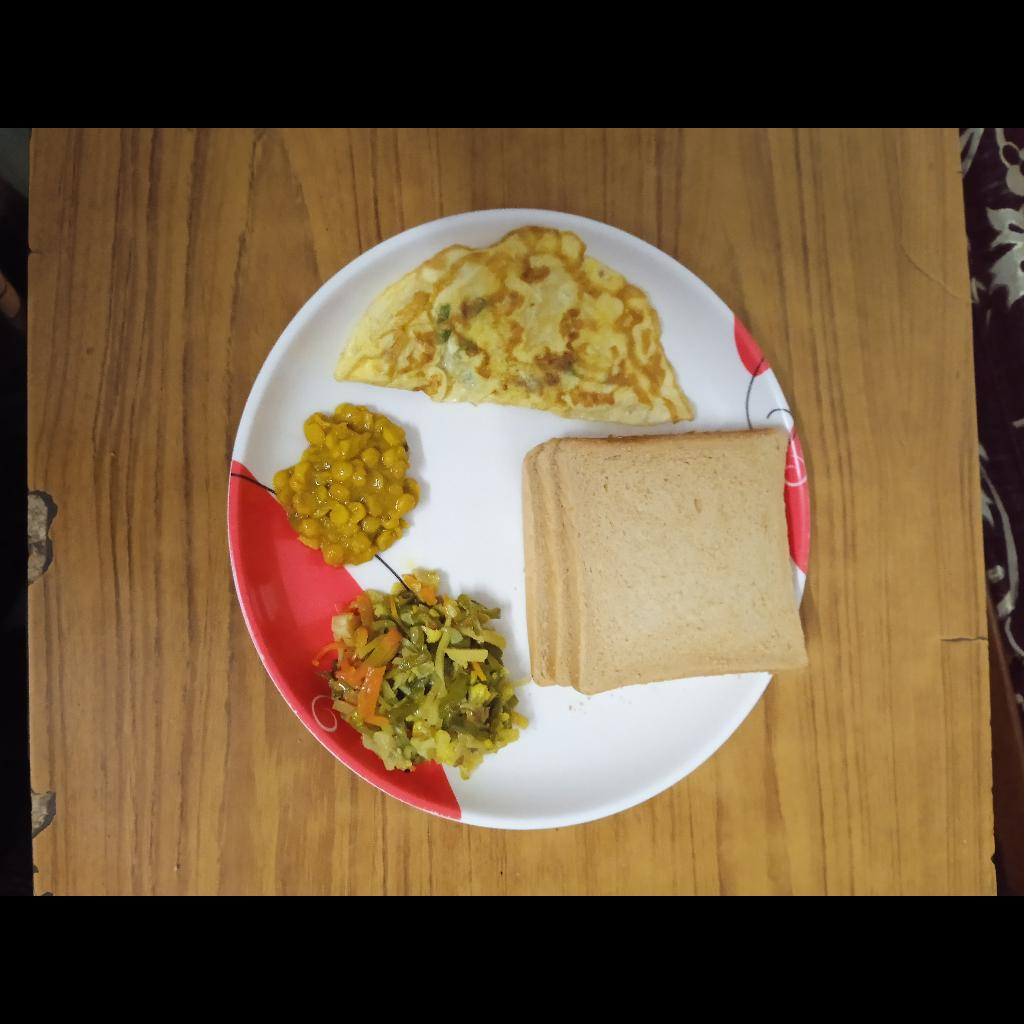bread: (520, 427, 816, 699)
daal: (275, 411, 414, 569)
egg-poached: (337, 228, 696, 422)
vegetable: (333, 574, 520, 770)
